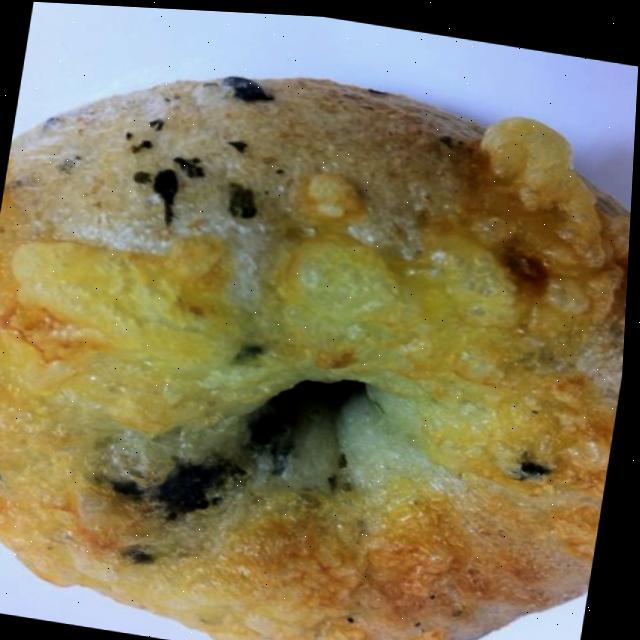面包点心: (0, 21, 639, 640)
